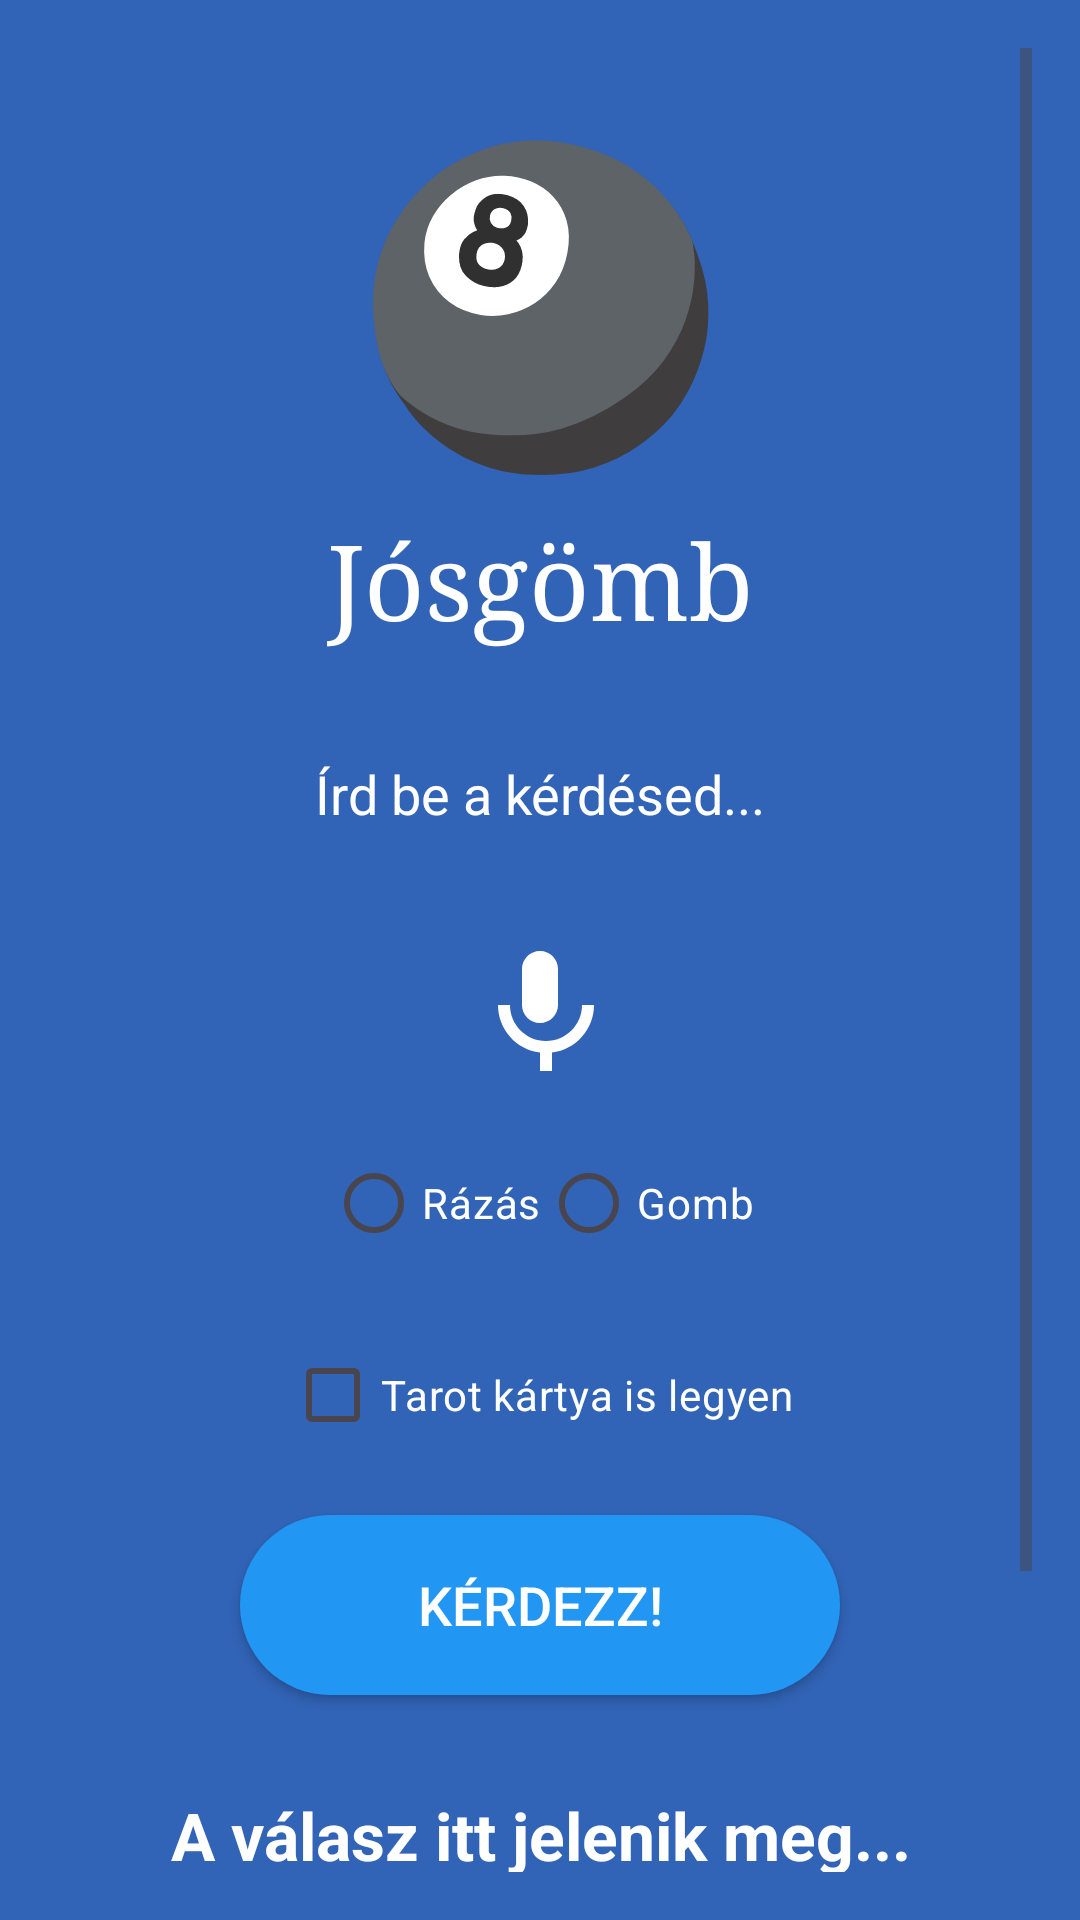

Point at icon controls on the screen. Image size 1080 × 1920, points as [x,y].
Beszédfelismerés: [546,1011]
